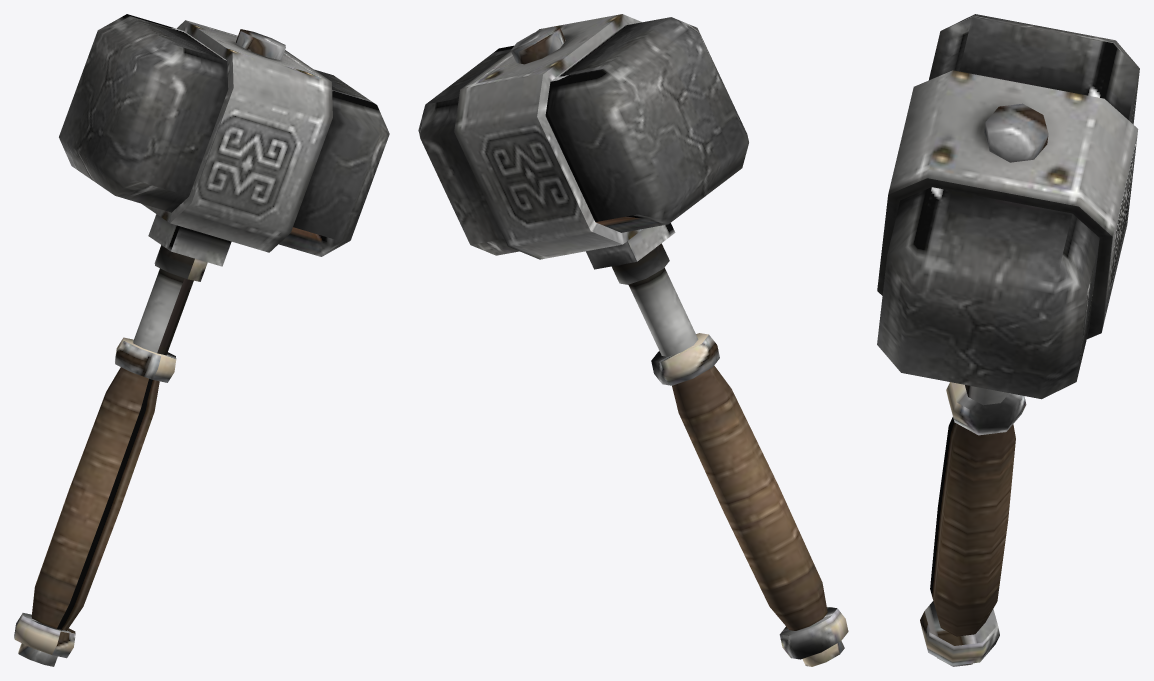
The model's file is Hammer.glb.
The picture shows the model from 3 angles, left to right: view 1: azimuth 30°, elevation 25°; view 2: azimuth 150°, elevation 25°; view 3: azimuth 270°, elevation 25°; orthographic projection. The views are drawn at different scales.
Parts seen in each view (by area): view 1: m_Hammer; view 2: m_Hammer; view 3: m_Hammer.
Boxes of the visible parts, x1,y1,x2,y2 form: m_Hammer: (14, 14, 389, 666); m_Hammer: (418, 14, 848, 666); m_Hammer: (877, 14, 1139, 666).
Bounding box in the file's own units: 2.05 × 3.13 × 1.03.
Materials: 1 (1 with a texture image).
